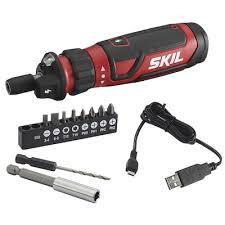screwdriver: (4, 19, 208, 101), (105, 101, 114, 115), (49, 111, 58, 124), (40, 112, 48, 126), (96, 103, 104, 117), (78, 107, 86, 118), (87, 105, 94, 117)
